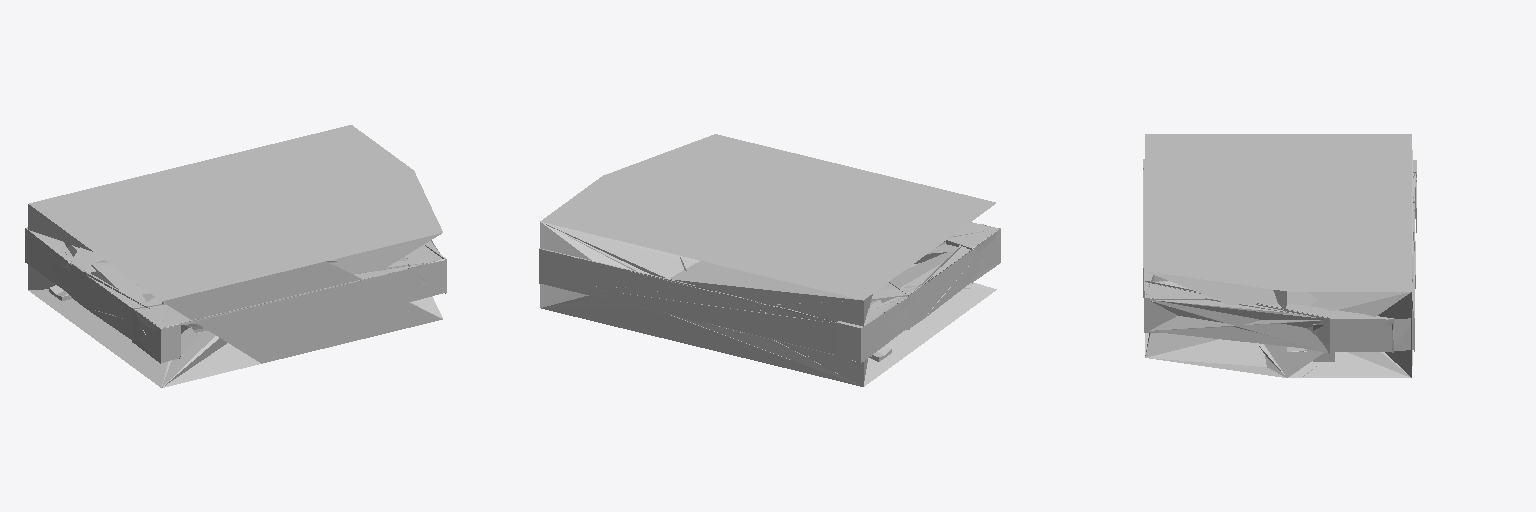
The picture shows the model from 3 angles: view 1: azimuth 30°, elevation 25°; view 2: azimuth 150°, elevation 25°; view 3: azimuth 270°, elevation 25°; orthographic projection.
Parts seen in each view (by area): view 1: fridge001, walls, wood_primary, floor_primary_marble, frame_window, kitchen_unit, stove, floor_secondary_wooden, Box003, shower, wall_lamp, celling (+5 smaller); view 2: fridge001, wood_primary, Object001, walls, kitchen_unit, floor_primary_marble, frame_window, celling, shower, floor_secondary_wooden, kitchen, bathroom_props (+6 smaller); view 3: walls, fridge001, wood_primary, frame_window, stove, floor_secondary_wooden, kitchen, floor_primary_marble, shower, celling, kitchen_unit, photo (+5 smaller).
Part boxes in pixels (x1,y1,x2,y2): fridge001: (29,129,441,301); walls: (41,137,445,363); wood_primary: (26,125,446,363); floor_primary_marble: (28,127,440,387); frame_window: (27,171,446,384); kitchen_unit: (29,125,442,361); stove: (50,171,446,362); floor_secondary_wooden: (164,126,440,299); Box003: (30,132,440,387); shower: (39,125,439,346); wall_lamp: (35,128,442,345); celling: (165,126,441,299); fridge001: (548,137,995,299); wood_primary: (539,174,1000,361); Object001: (543,176,896,386); walls: (539,135,1000,355); kitchen_unit: (541,134,860,386); floor_primary_marble: (539,134,995,386); frame_window: (539,177,999,384); celling: (541,134,994,304); shower: (539,136,991,346); floor_secondary_wooden: (553,134,992,373); kitchen: (542,173,995,307); bathroom_props: (540,138,908,362); walls: (1144,137,1416,377); fridge001: (1146,134,1410,289); wood_primary: (1143,135,1416,377); frame_window: (1143,134,1416,377); stove: (1143,169,1414,353); floor_secondary_wooden: (1145,134,1405,377); kitchen: (1145,135,1412,366); floor_primary_marble: (1145,134,1414,376); shower: (1145,134,1414,347); celling: (1145,136,1403,290); kitchen_unit: (1150,141,1411,291); photo: (1145,216,1410,377).
Size of the model in its own units: 46.75 by 11.81 by 33.89.